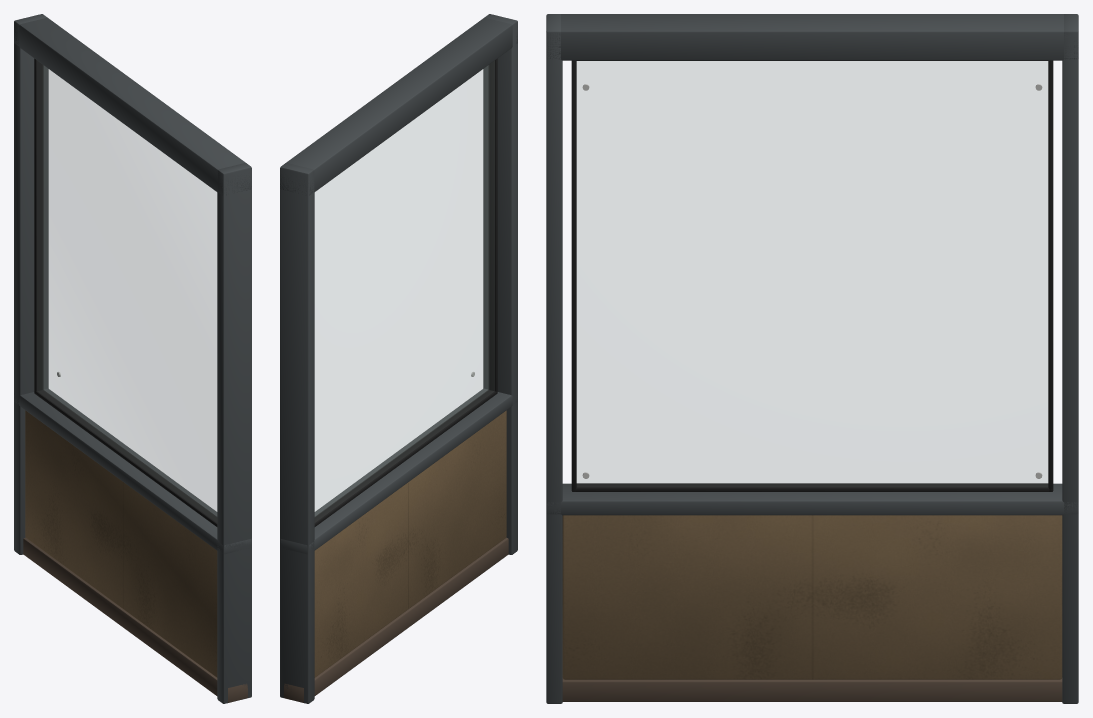
The model's file is outpost_glass_wall_short.glb.
The picture shows the model from 3 angles, left to right: view 1: azimuth 30°, elevation 25°; view 2: azimuth 150°, elevation 25°; view 3: azimuth 270°, elevation 25°; orthographic projection. The views are drawn at different scales.
Visible parts, largest first — view 1: glass, dado, endpost, endpost.001, header, sill, cove, gasket.002, gasket.001; view 2: glass, dado, endpost.001, endpost, header, sill, cove, gasket.003, gasket.001; view 3: glass, dado, header, sill, endpost, endpost.001, cove, gasket.001, gasket.002, gasket.003.
Part boxes in pixels (<box>): glass: <box>37,61,216,521</box>; dado: <box>25,410,217,677</box>; endpost: <box>217,163,251,703</box>; endpost.001: <box>14,14,48,554</box>; header: <box>14,17,251,195</box>; sill: <box>14,388,251,554</box>; cove: <box>23,537,247,702</box>; gasket.002: <box>34,58,43,391</box>; gasket.001: <box>34,390,217,526</box>; glass: <box>315,61,494,521</box>; dado: <box>314,410,506,677</box>; endpost.001: <box>280,163,314,703</box>; endpost: <box>483,14,517,554</box>; header: <box>280,17,517,195</box>; sill: <box>280,388,517,554</box>; cove: <box>284,537,508,702</box>; gasket.003: <box>488,58,497,391</box>; gasket.001: <box>314,390,497,526</box>; glass: <box>577,61,1047,486</box>; dado: <box>562,515,1062,679</box>; header: <box>546,14,1078,60</box>; sill: <box>547,483,1078,515</box>; endpost: <box>546,14,562,703</box>; endpost.001: <box>1062,14,1078,703</box>; cove: <box>562,678,1062,701</box>; gasket.001: <box>572,483,1052,491</box>; gasket.002: <box>1048,60,1053,491</box>; gasket.003: <box>571,60,576,491</box>.
Bounding box in the file's own units: 0.188 × 3.14 × 2.25.
Materials: 6 (1 with a texture image).
